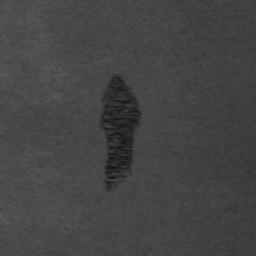Secondary rust skin: (100, 74, 141, 193)
